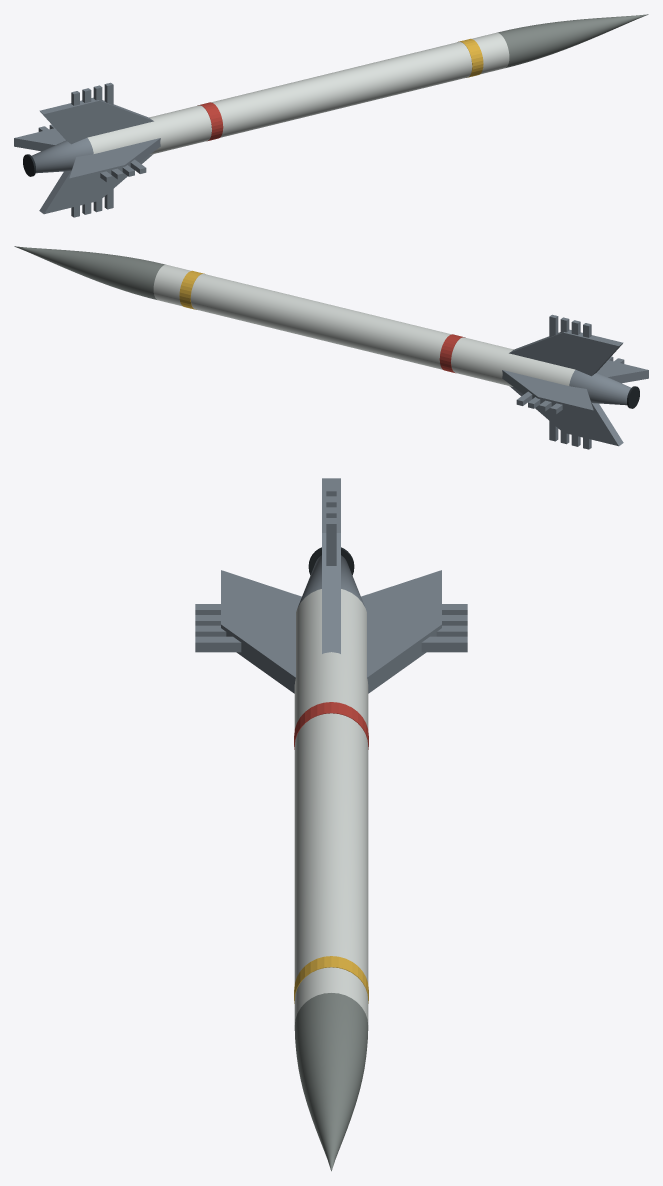
The model's file is r77_family.glb.
3 views of the same model, one above another, from view 1: azimuth 30°, elevation 25°; view 2: azimuth 150°, elevation 25°; view 3: azimuth 270°, elevation 25° (orthographic). The views are drawn at different scales.
Parts seen in each view (by area): view 1: r77_family; view 2: r77_family; view 3: r77_family.
Part boxes in pixels (left/top/right/bottom): r77_family: left=14, top=14, right=648, bottom=217; r77_family: left=14, top=246, right=648, bottom=449; r77_family: left=195, top=478, right=467, bottom=1171.
Size of the model in its own units: 10 by 1.9 by 1.9.
